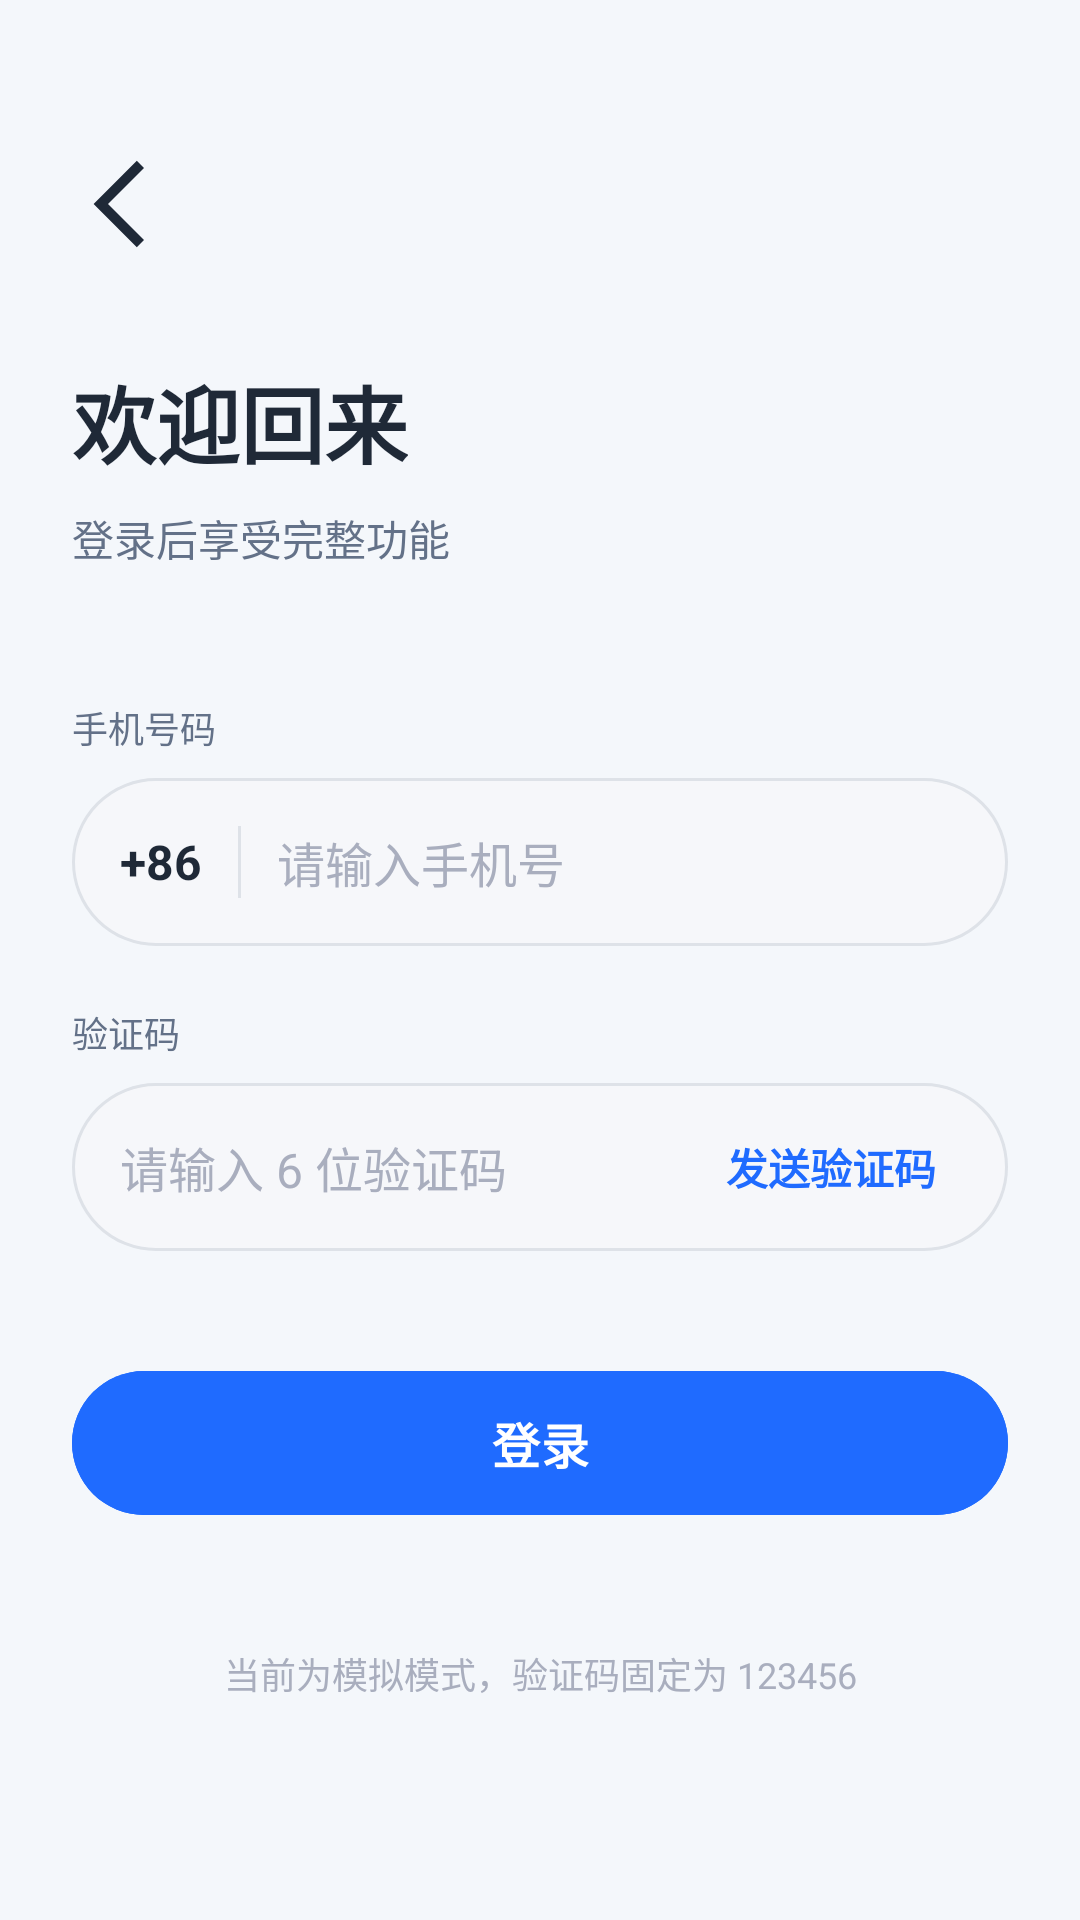

Point at icon controls on the screen. Image size 1080×1920, points as (x=x, y=y).
返回: (x=119, y=204)
